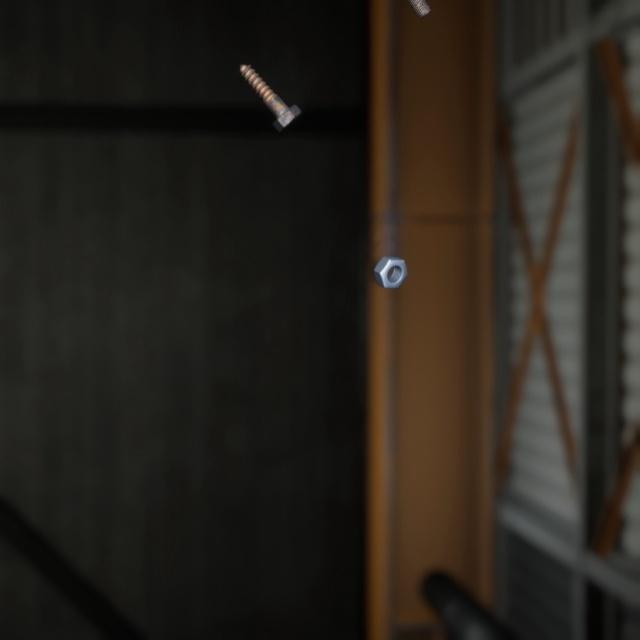bolt: (235, 48, 306, 124)
nut: (369, 235, 412, 277)
